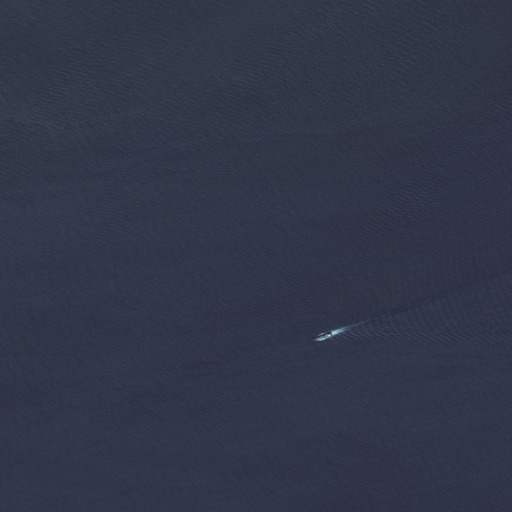ship: (309, 331, 337, 344)
